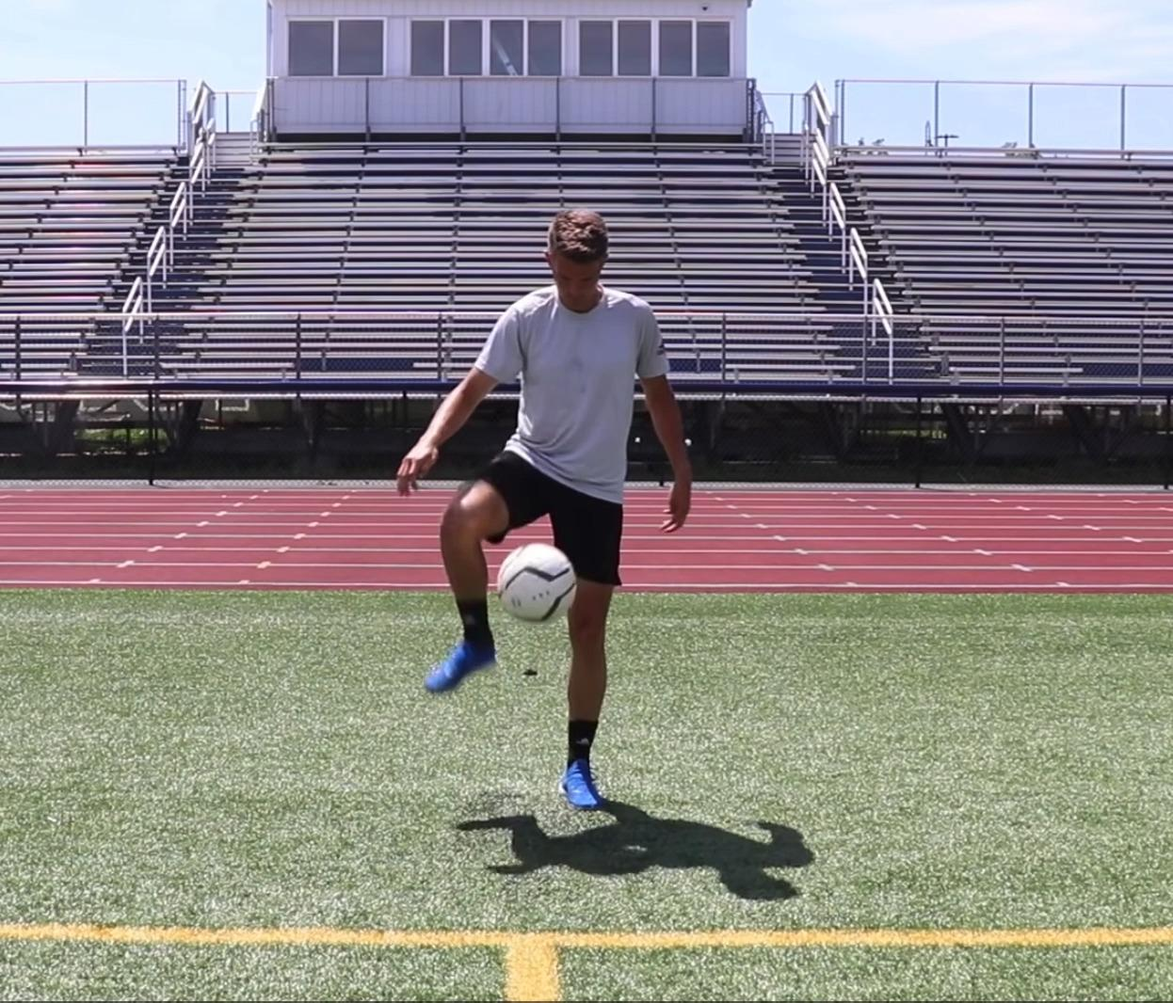ball: (498, 542, 573, 622)
foot: (423, 631, 499, 698), (560, 748, 608, 814)
person: (400, 213, 693, 807)
